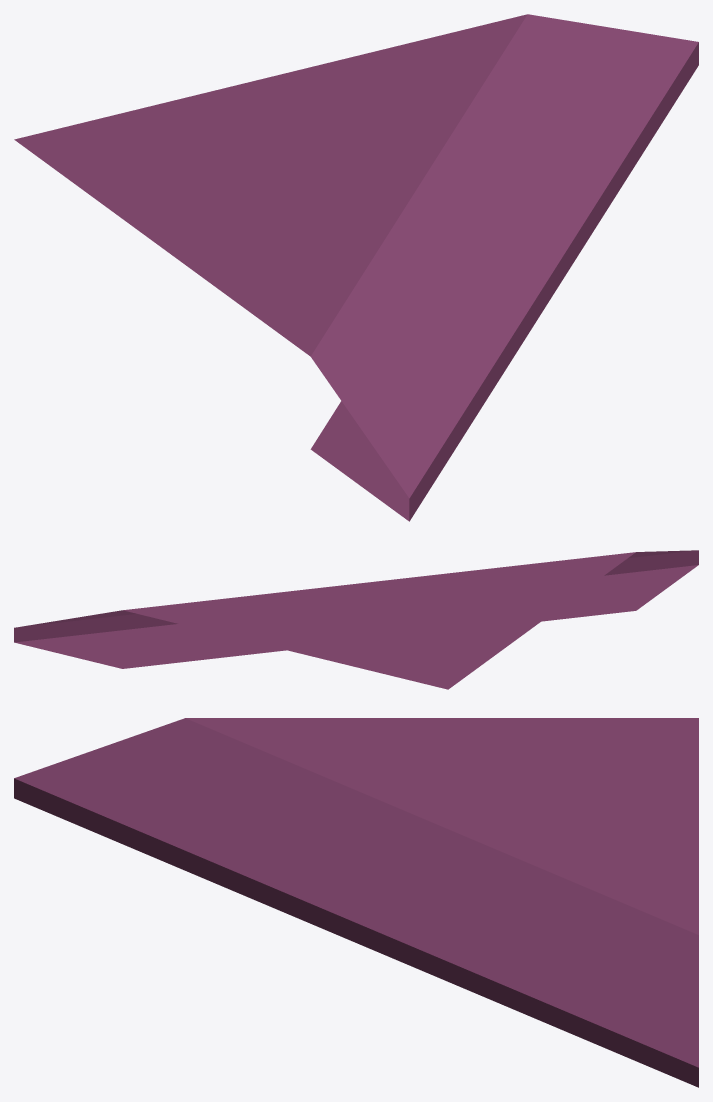
File: Roof_45_Corner_1.fbx
3 renders of one model, top to bottom at view 1: azimuth 30°, elevation 25°; view 2: azimuth 150°, elevation 25°; view 3: azimuth 270°, elevation 25°, orthographic. The views are drawn at different scales.
Parts seen in each view (by area): view 1: Roof_45_Corner_1; view 2: Roof_45_Corner_1; view 3: Roof_45_Corner_1.
Boxes of the visible parts, x1,y1,x2,y2 form: Roof_45_Corner_1: [14, 14, 698, 521]; Roof_45_Corner_1: [14, 550, 698, 689]; Roof_45_Corner_1: [14, 718, 698, 1087].
Size of the model in its own units: 4 by 0.5174 by 4.
